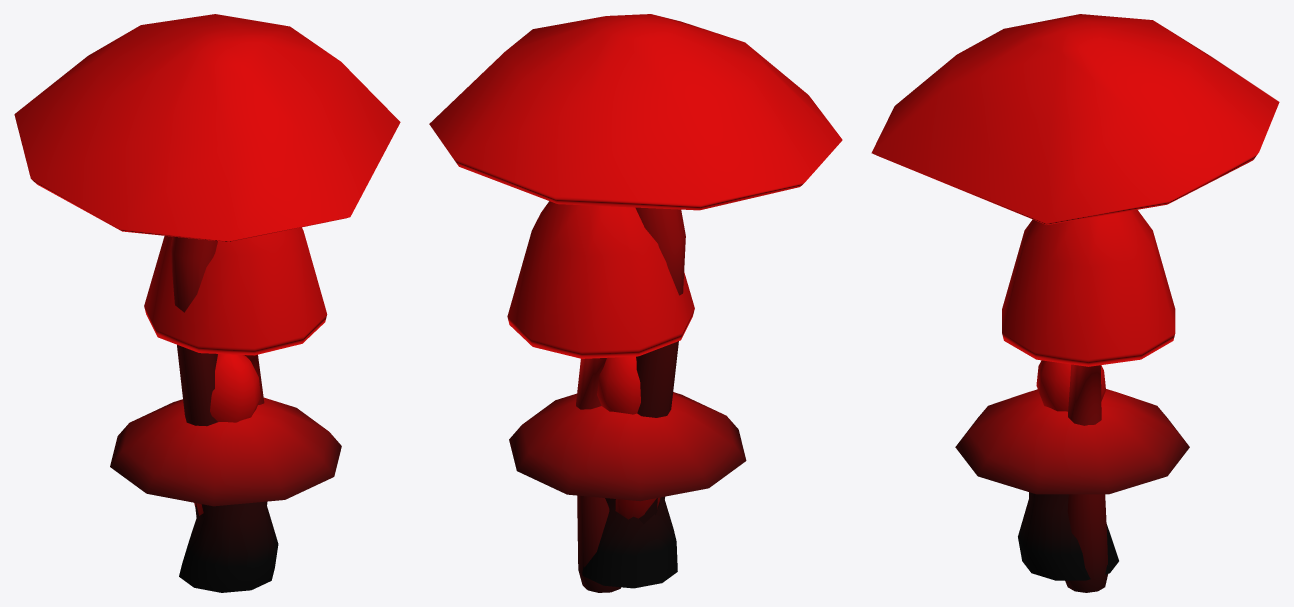
File: Mushroom_v3_Mesh.fbx
3 views of the same model, side by side, from view 1: azimuth 30°, elevation 25°; view 2: azimuth 150°, elevation 25°; view 3: azimuth 270°, elevation 25° (orthographic). The views are drawn at different scales.
Visible parts, largest first — view 1: Swamp_01, Swamp_03, Swamp_04, Swamp_02; view 2: Swamp_01, Swamp_04, Swamp_03, Swamp_02, Swamp_05; view 3: Swamp_01, Swamp_04, Swamp_03, Swamp_02.
Boxes of the visible parts, left/top/right/bottom form: Swamp_01: left=14, top=14, right=400, bottom=519; Swamp_03: left=110, top=397, right=341, bottom=592; Swamp_04: left=144, top=227, right=327, bottom=404; Swamp_02: left=210, top=354, right=260, bottom=422; Swamp_01: left=429, top=14, right=842, bottom=524; Swamp_04: left=507, top=201, right=694, bottom=592; Swamp_03: left=509, top=392, right=746, bottom=588; Swamp_02: left=597, top=356, right=640, bottom=414; Swamp_05: left=615, top=497, right=660, bottom=519; Swamp_01: left=871, top=14, right=1279, bottom=224; Swamp_04: left=1002, top=210, right=1175, bottom=592; Swamp_03: left=955, top=389, right=1189, bottom=580; Swamp_02: left=1036, top=360, right=1105, bottom=411.
Bounding box in the file's own units: 74.32 × 113 × 76.73.
